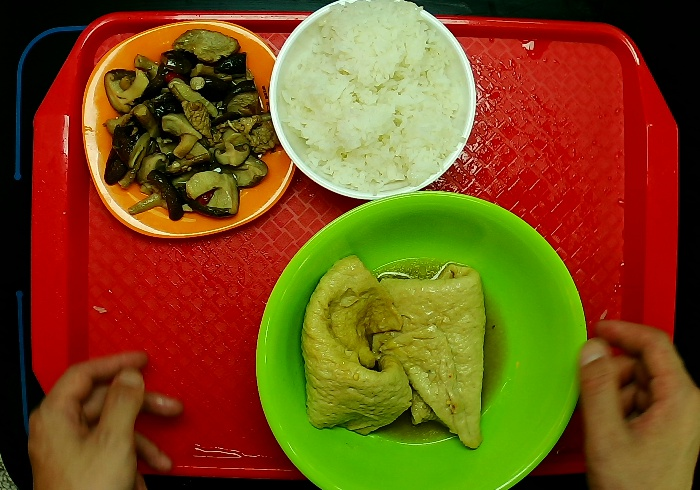YKMZ-Fan_Wan: (267, 1, 481, 213)
YKMZ-Ju_Se_Fang_Die: (72, 12, 302, 244)
YKMZ-Lv_Se_Tang_Wan: (250, 170, 594, 490)
